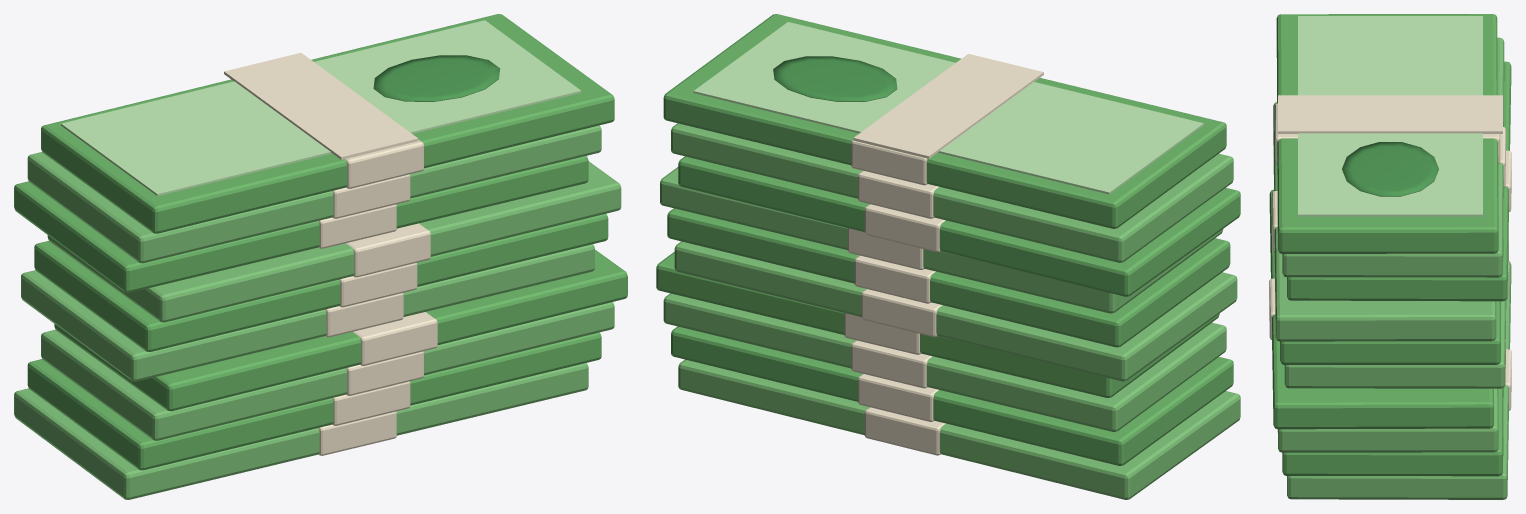
The model's file is cash_brick.glb.
3 views of the same model, side by side, from view 1: azimuth 30°, elevation 25°; view 2: azimuth 150°, elevation 25°; view 3: azimuth 270°, elevation 25° (orthographic). The views are drawn at different scales.
Parts seen in each view (by area): view 1: topBill, bundle9, bundle6, bundle3, bundle0, bundle7, bundle8, bundle1, bundle5, bundle4, bundle2, topBand (+11 smaller); view 2: topBill, bundle9, bundle2, bundle4, bundle5, bundle7, bundle8, bundle0, bundle1, bundle3, bundle6, topBand (+11 smaller); view 3: topBill, bundle9, bundle3, bundle6, topBand, bundle7, bundle8, bundle0, bundle1, bundle4, bundle2, bundle5 (+6 smaller).
Part boxes in pixels (x1,y1,x2,y2): topBill: (61, 20, 581, 195); bundle9: (41, 14, 614, 233); bundle6: (47, 161, 621, 322); bundle3: (54, 249, 627, 411); bundle0: (14, 363, 588, 499); bundle7: (14, 156, 588, 292); bundle8: (27, 125, 601, 263); bundle1: (27, 332, 601, 470); bundle5: (34, 214, 608, 351); bundle4: (21, 244, 594, 381); bundle2: (41, 302, 614, 440); topBand: (224, 53, 418, 159); topBill: (693, 22, 1203, 194); bundle9: (663, 14, 1226, 228); bundle2: (663, 293, 1226, 431); bundle4: (674, 241, 1237, 381); bundle5: (667, 208, 1230, 347); bundle7: (678, 156, 1240, 296); bundle8: (671, 123, 1233, 262); bundle0: (678, 359, 1240, 499); bundle1: (671, 326, 1233, 465); bundle3: (656, 252, 1219, 397); bundle6: (660, 167, 1223, 313); topBand: (853, 53, 1043, 158); topBill: (1298, 16, 1482, 216); bundle9: (1276, 14, 1498, 253); bundle3: (1269, 189, 1493, 429); bundle6: (1273, 102, 1496, 341); topBand: (1278, 95, 1502, 133); bundle7: (1287, 61, 1511, 301); bundle8: (1282, 37, 1504, 277); bundle0: (1287, 261, 1511, 499); bundle1: (1282, 388, 1503, 476); bundle4: (1284, 300, 1506, 388); bundle2: (1277, 388, 1498, 452); bundle5: (1280, 301, 1500, 364).
Bounding box in the file's own units: 0.3851 × 0.223 × 0.1704.
